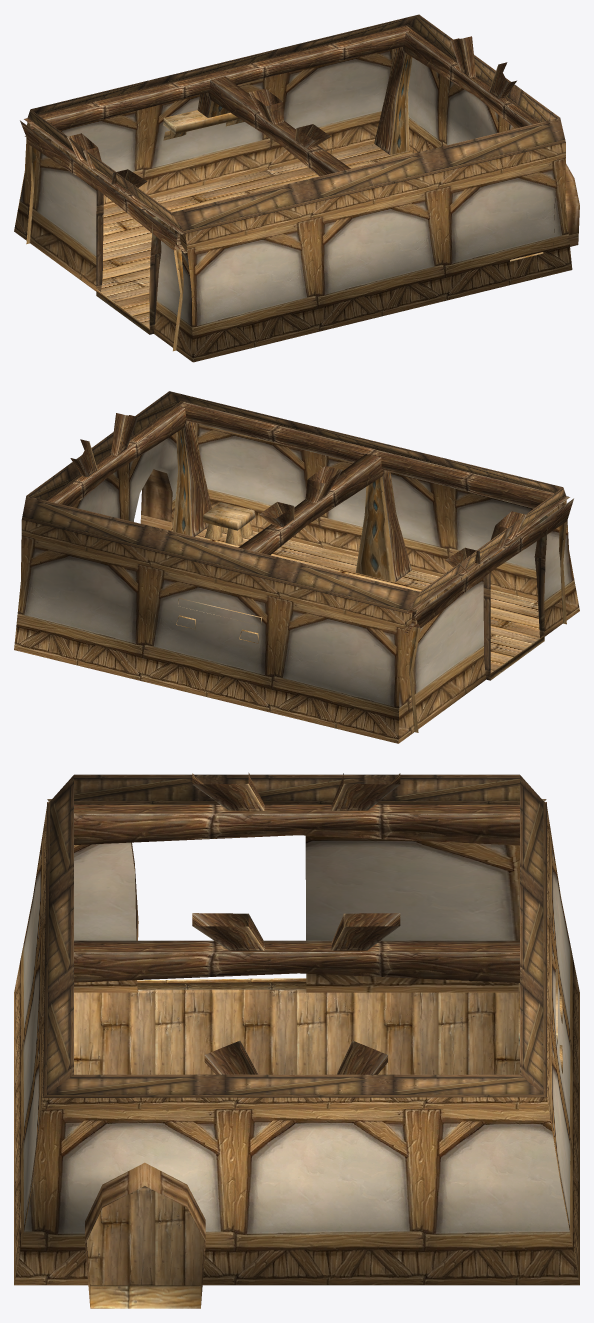
Rendered from stormwind_219.fbx.
3 views of the same model, one above another, from view 1: azimuth 30°, elevation 25°; view 2: azimuth 150°, elevation 25°; view 3: azimuth 270°, elevation 25° (orthographic). The views are drawn at different scales.
Visible parts, largest first — view 1: stormwind_219_48, stormwind_219_53, stormwind_219_56, stormwind_219_51, stormwind_219_54, stormwind_219_49; view 2: stormwind_219_48, stormwind_219_53, stormwind_219_56, stormwind_219_51, stormwind_219_49, stormwind_219_54; view 3: stormwind_219_48, stormwind_219_53, stormwind_219_51, stormwind_219_56, stormwind_219_49.
Boxes of the visible parts, <box> form: stormwind_219_48: <box>14,48,572,362</box>; stormwind_219_53: <box>20,25,557,351</box>; stormwind_219_56: <box>27,14,565,334</box>; stormwind_219_51: <box>101,143,412,328</box>; stormwind_219_54: <box>163,110,543,261</box>; stormwind_219_49: <box>150,164,579,255</box>; stormwind_219_48: <box>14,408,579,743</box>; stormwind_219_53: <box>48,402,573,732</box>; stormwind_219_56: <box>22,391,566,680</box>; stormwind_219_51: <box>195,527,539,672</box>; stormwind_219_49: <box>140,469,547,559</box>; stormwind_219_54: <box>176,502,261,643</box>; stormwind_219_48: <box>14,804,579,1285</box>; stormwind_219_53: <box>18,772,562,1308</box>; stormwind_219_51: <box>74,989,519,1285</box>; stormwind_219_56: <box>43,774,546,1097</box>; stormwind_219_49: <box>85,842,205,1306</box>.
Bounding box in the file's own units: 20.03 × 7.09 × 14.96.
